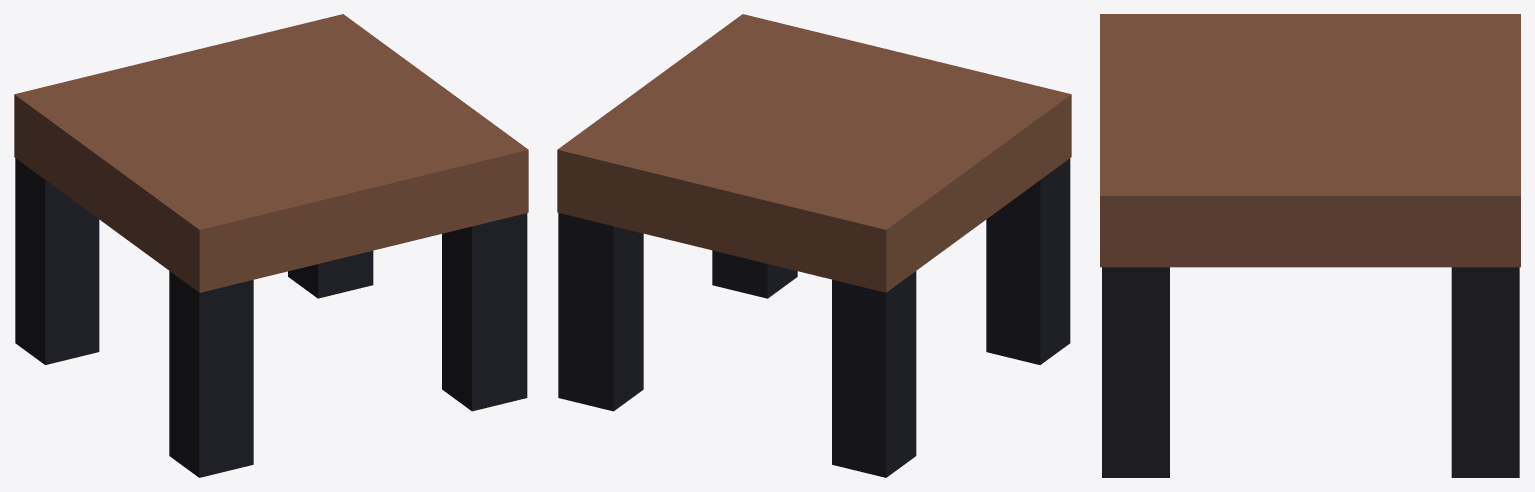
The model's file is table_02.fbx.
3 views of the same model, side by side, from view 1: azimuth 30°, elevation 25°; view 2: azimuth 150°, elevation 25°; view 3: azimuth 270°, elevation 25° (orthographic). The views are drawn at different scales.
Parts seen in each view (by area): view 1: table_02; view 2: table_02; view 3: table_02.
Part boxes in pixels (x1,y1,x2,y2): table_02: [14, 14, 528, 477]; table_02: [557, 14, 1071, 477]; table_02: [1100, 14, 1520, 477].
Size of the model in its own units: 83.8 by 60.53 by 81.83.
